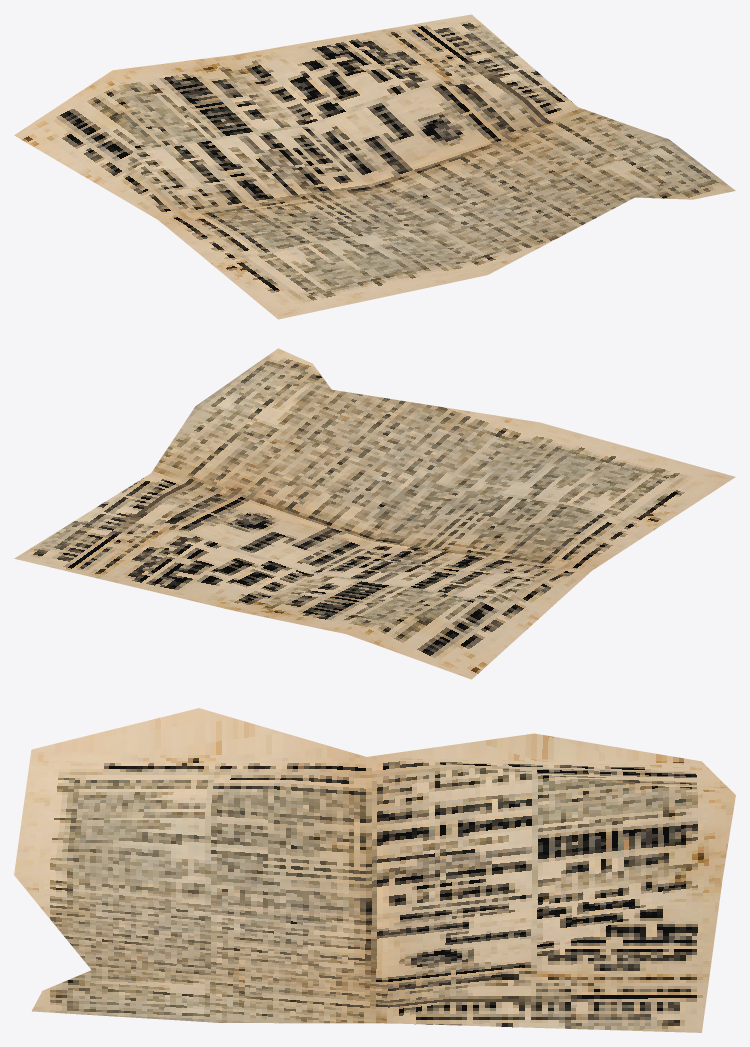
The model's file is Paper3.glb.
3 renders of one model, top to bottom at view 1: azimuth 30°, elevation 25°; view 2: azimuth 150°, elevation 25°; view 3: azimuth 270°, elevation 25°, orthographic. The views are drawn at different scales.
Visible parts, largest first — view 1: Paper32; view 2: Paper32; view 3: Paper32.
Boxes of the visible parts, left/top/right/bottom form: Paper32: left=14, top=14, right=735, bottom=319; Paper32: left=14, top=348, right=735, bottom=679; Paper32: left=14, top=708, right=735, bottom=1032.
Size of the model in its own units: 0.9362 by 0.1036 by 0.9907.
Materials: 1 (1 with a texture image).
